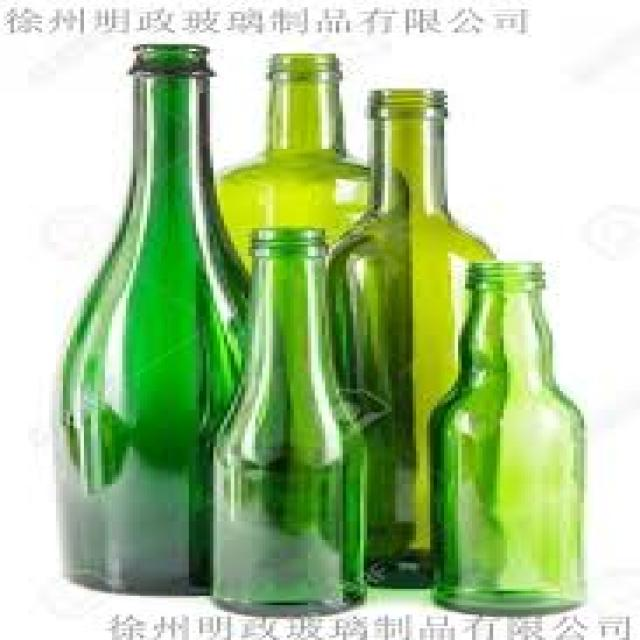glass: (56, 42, 248, 591), (325, 86, 493, 587), (210, 226, 364, 612), (427, 259, 577, 615), (214, 51, 403, 270)
